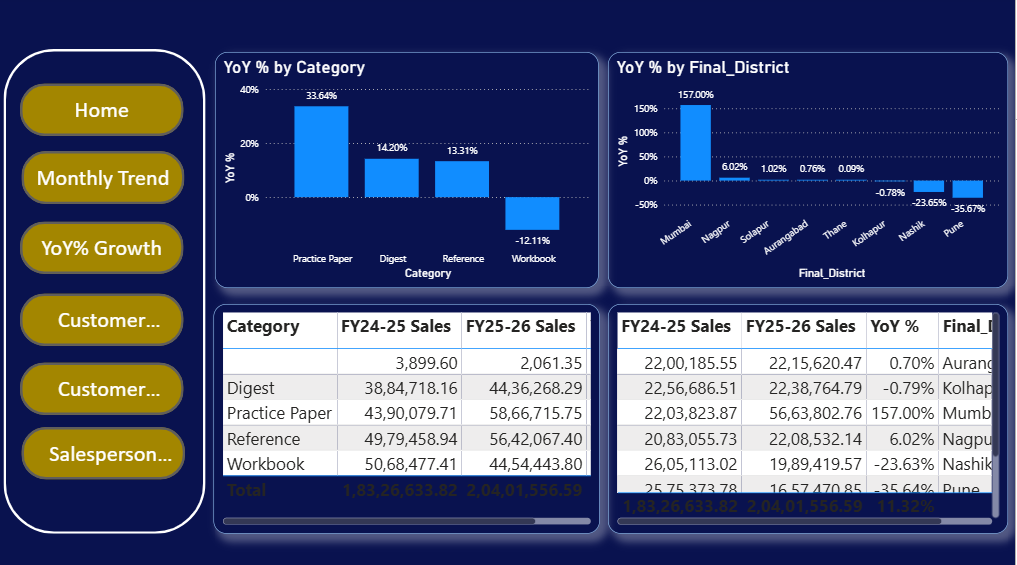

The page's visual inventory and layout, read from the dashboard file:
{"tool":"powerbi","page":{"name":"YoY 24-25  and 25-26","canvas":[1280,720],"ordinal":2},"visuals":[{"type":"clusteredColumnChart","fields":{"Category":["Product Master.Category"],"Y":["Sales Transactions.YoY %"]},"box":[272,71.6,483.5,297.4],"z":0},{"type":"clusteredColumnChart","fields":{"Y":["Sales Transactions.YoY %"],"Category":["Sales Transactions.Final_District"]},"box":[766.7,71.6,504.2,297.4],"z":1000},{"type":"tableEx","fields":{"Values":["Product Master.Category","Sales Transactions.FY24-25 Sales","Sales Transactions.FY25-26 Sales","Sales Transactions.YoY %"]},"box":[270.4,389.7,486.7,289.5],"z":2000},{"type":"tableEx","fields":{"Values":["Sales Transactions.FY24-25 Sales","Sales Transactions.FY25-26 Sales","Sales Transactions.YoY %","Sales Transactions.Final_District"]},"box":[766.7,389.7,504.2,289.5],"z":3000},{"type":"shape","box":[4.8,68.4,254.5,610.8],"z":4000},{"type":"actionButton","title":"Home","box":[29.1,197.5,205.2,66.8],"z":5000},{"type":"actionButton","title":"Home","box":[26.6,111.2,206,66],"z":6000},{"type":"actionButton","title":"Home","box":[26.6,285.2,206,66],"z":7000},{"type":"actionButton","title":"Home","box":[26.6,375.2,206,66],"z":8000},{"type":"actionButton","title":"Home","box":[26.6,463.2,206,66],"z":9000},{"type":"actionButton","title":"Home","box":[28.6,545.2,206,66],"z":10000}]}

Visuals, with their boxes in screenshot pixels (x1, y1, x2, y2), scaled from the page's 1280x720 canvas onto the 1017x565 screenshot:
clusteredColumnChart - Product Master.Category x Sales Transactions.YoY %: region(216, 56, 600, 290)
clusteredColumnChart - Sales Transactions.YoY % x Sales Transactions.Final_District: region(609, 56, 1010, 290)
tableEx - Product Master.Category x Sales Transactions.FY24-25 Sales: region(215, 306, 602, 533)
tableEx - Sales Transactions.FY24-25 Sales x Sales Transactions.FY25-26 Sales: region(609, 306, 1010, 533)
shape: region(4, 54, 206, 533)
"Home" actionButton: region(23, 155, 186, 207)
"Home" actionButton: region(21, 87, 185, 139)
"Home" actionButton: region(21, 224, 185, 276)
"Home" actionButton: region(21, 294, 185, 346)
"Home" actionButton: region(21, 363, 185, 415)
"Home" actionButton: region(23, 428, 186, 480)
